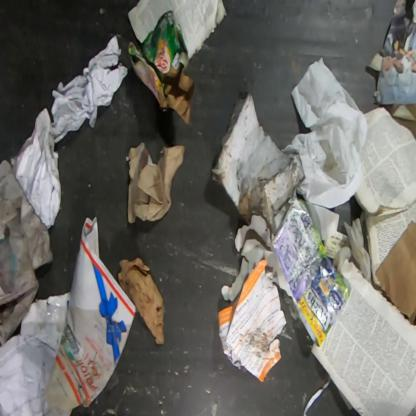cardboard: (45, 216, 137, 415), (126, 8, 195, 126), (115, 257, 166, 344)
soft_plastic: (271, 200, 350, 348)
